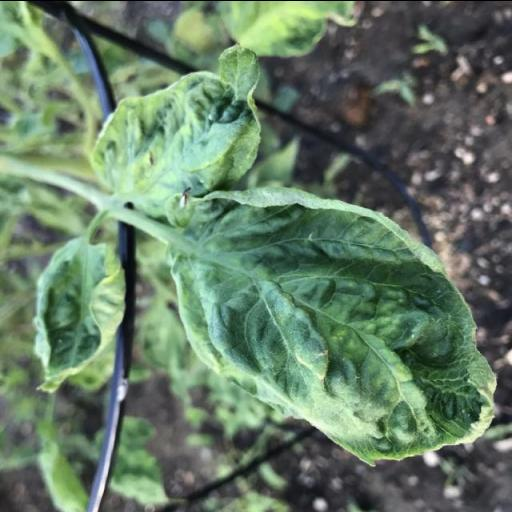disease_tomato: (176, 184, 494, 470), (93, 42, 263, 211), (29, 234, 127, 394)
